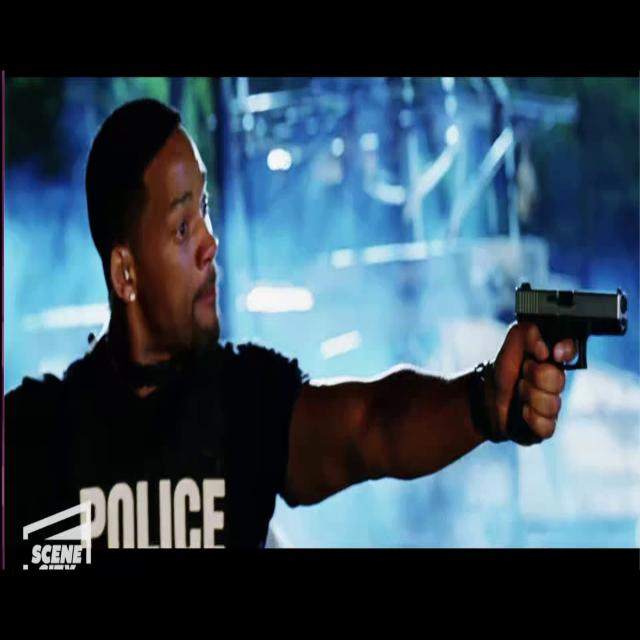weapons: (506, 258, 632, 451)
